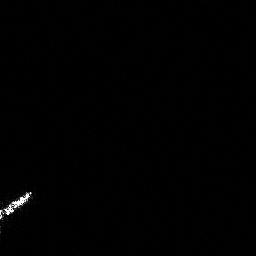ship: (1, 188, 36, 224)
